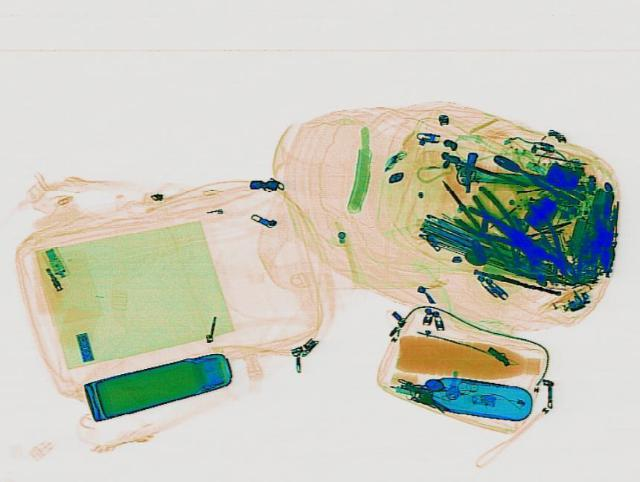Pliers: (486, 150, 592, 207), (512, 213, 594, 285), (450, 204, 536, 252)
